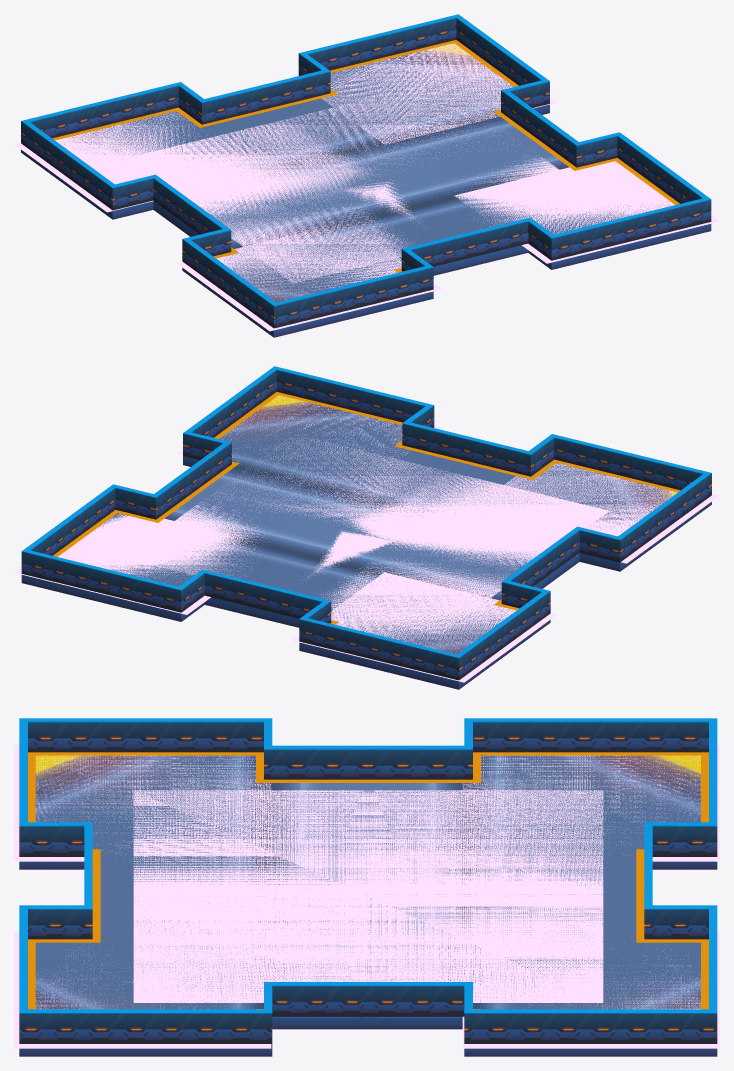
The model's file is Battle_Stage 48.fbx.
3 renders of one model, top to bottom at view 1: azimuth 30°, elevation 25°; view 2: azimuth 150°, elevation 25°; view 3: azimuth 270°, elevation 25°, orthographic. The views are drawn at different scales.
Parts seen in each view (by area): view 1: DB_Platform_Cube__7_.003, DB_Platform_Cube__7_.005, Plane.096, Plane.098, Plane.100, Plane.097, Plane.099, DB_Platform_Cube__7_.004; view 2: DB_Platform_Cube__7_.003, DB_Platform_Cube__7_.005, Plane.096, Plane.097, Plane.098, Plane.099, DB_Platform_Cube__7_.004, Plane.100; view 3: Plane.096, DB_Platform_Cube__7_.003, DB_Platform_Cube__7_.005, DB_Platform_Cube__7_.004, Plane.099, Plane.097, Plane.098, Plane.100.
Boxes of the visible parts, x1,y1,x2,y2 form: DB_Platform_Cube__7_.003: (21, 43, 711, 337); DB_Platform_Cube__7_.005: (21, 14, 711, 328); Plane.096: (123, 83, 607, 282); Plane.098: (291, 43, 556, 144); Plane.100: (454, 161, 719, 263); Plane.097: (14, 111, 207, 212); Plane.099: (177, 228, 442, 331); DB_Platform_Cube__7_.004: (52, 40, 679, 272); DB_Platform_Cube__7_.003: (21, 395, 711, 689); DB_Platform_Cube__7_.005: (21, 366, 711, 680); Plane.096: (125, 435, 609, 635); Plane.097: (291, 572, 556, 682); Plane.098: (14, 514, 233, 614); Plane.099: (492, 463, 719, 563); DB_Platform_Cube__7_.004: (53, 392, 680, 624); Plane.100: (177, 395, 441, 464); Plane.096: (133, 790, 603, 1002); DB_Platform_Cube__7_.003: (19, 755, 717, 1056); DB_Platform_Cube__7_.005: (19, 718, 717, 1043); DB_Platform_Cube__7_.004: (28, 752, 708, 1009); Plane.099: (14, 745, 270, 861); Plane.097: (462, 745, 719, 861); Plane.098: (462, 932, 719, 1048); Plane.100: (14, 932, 271, 1048).
Size of the model in its own units: 5093 by 343 by 5010.
